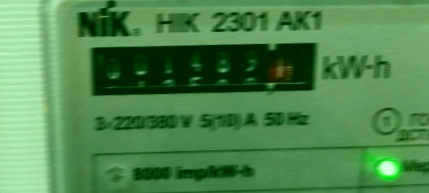0: (131, 50, 148, 76), (104, 56, 120, 81)
1: (160, 48, 175, 78), (272, 50, 286, 81)
4: (187, 48, 204, 75)
8: (213, 47, 231, 75)
9: (242, 48, 258, 74)
screen: (75, 27, 333, 113)
